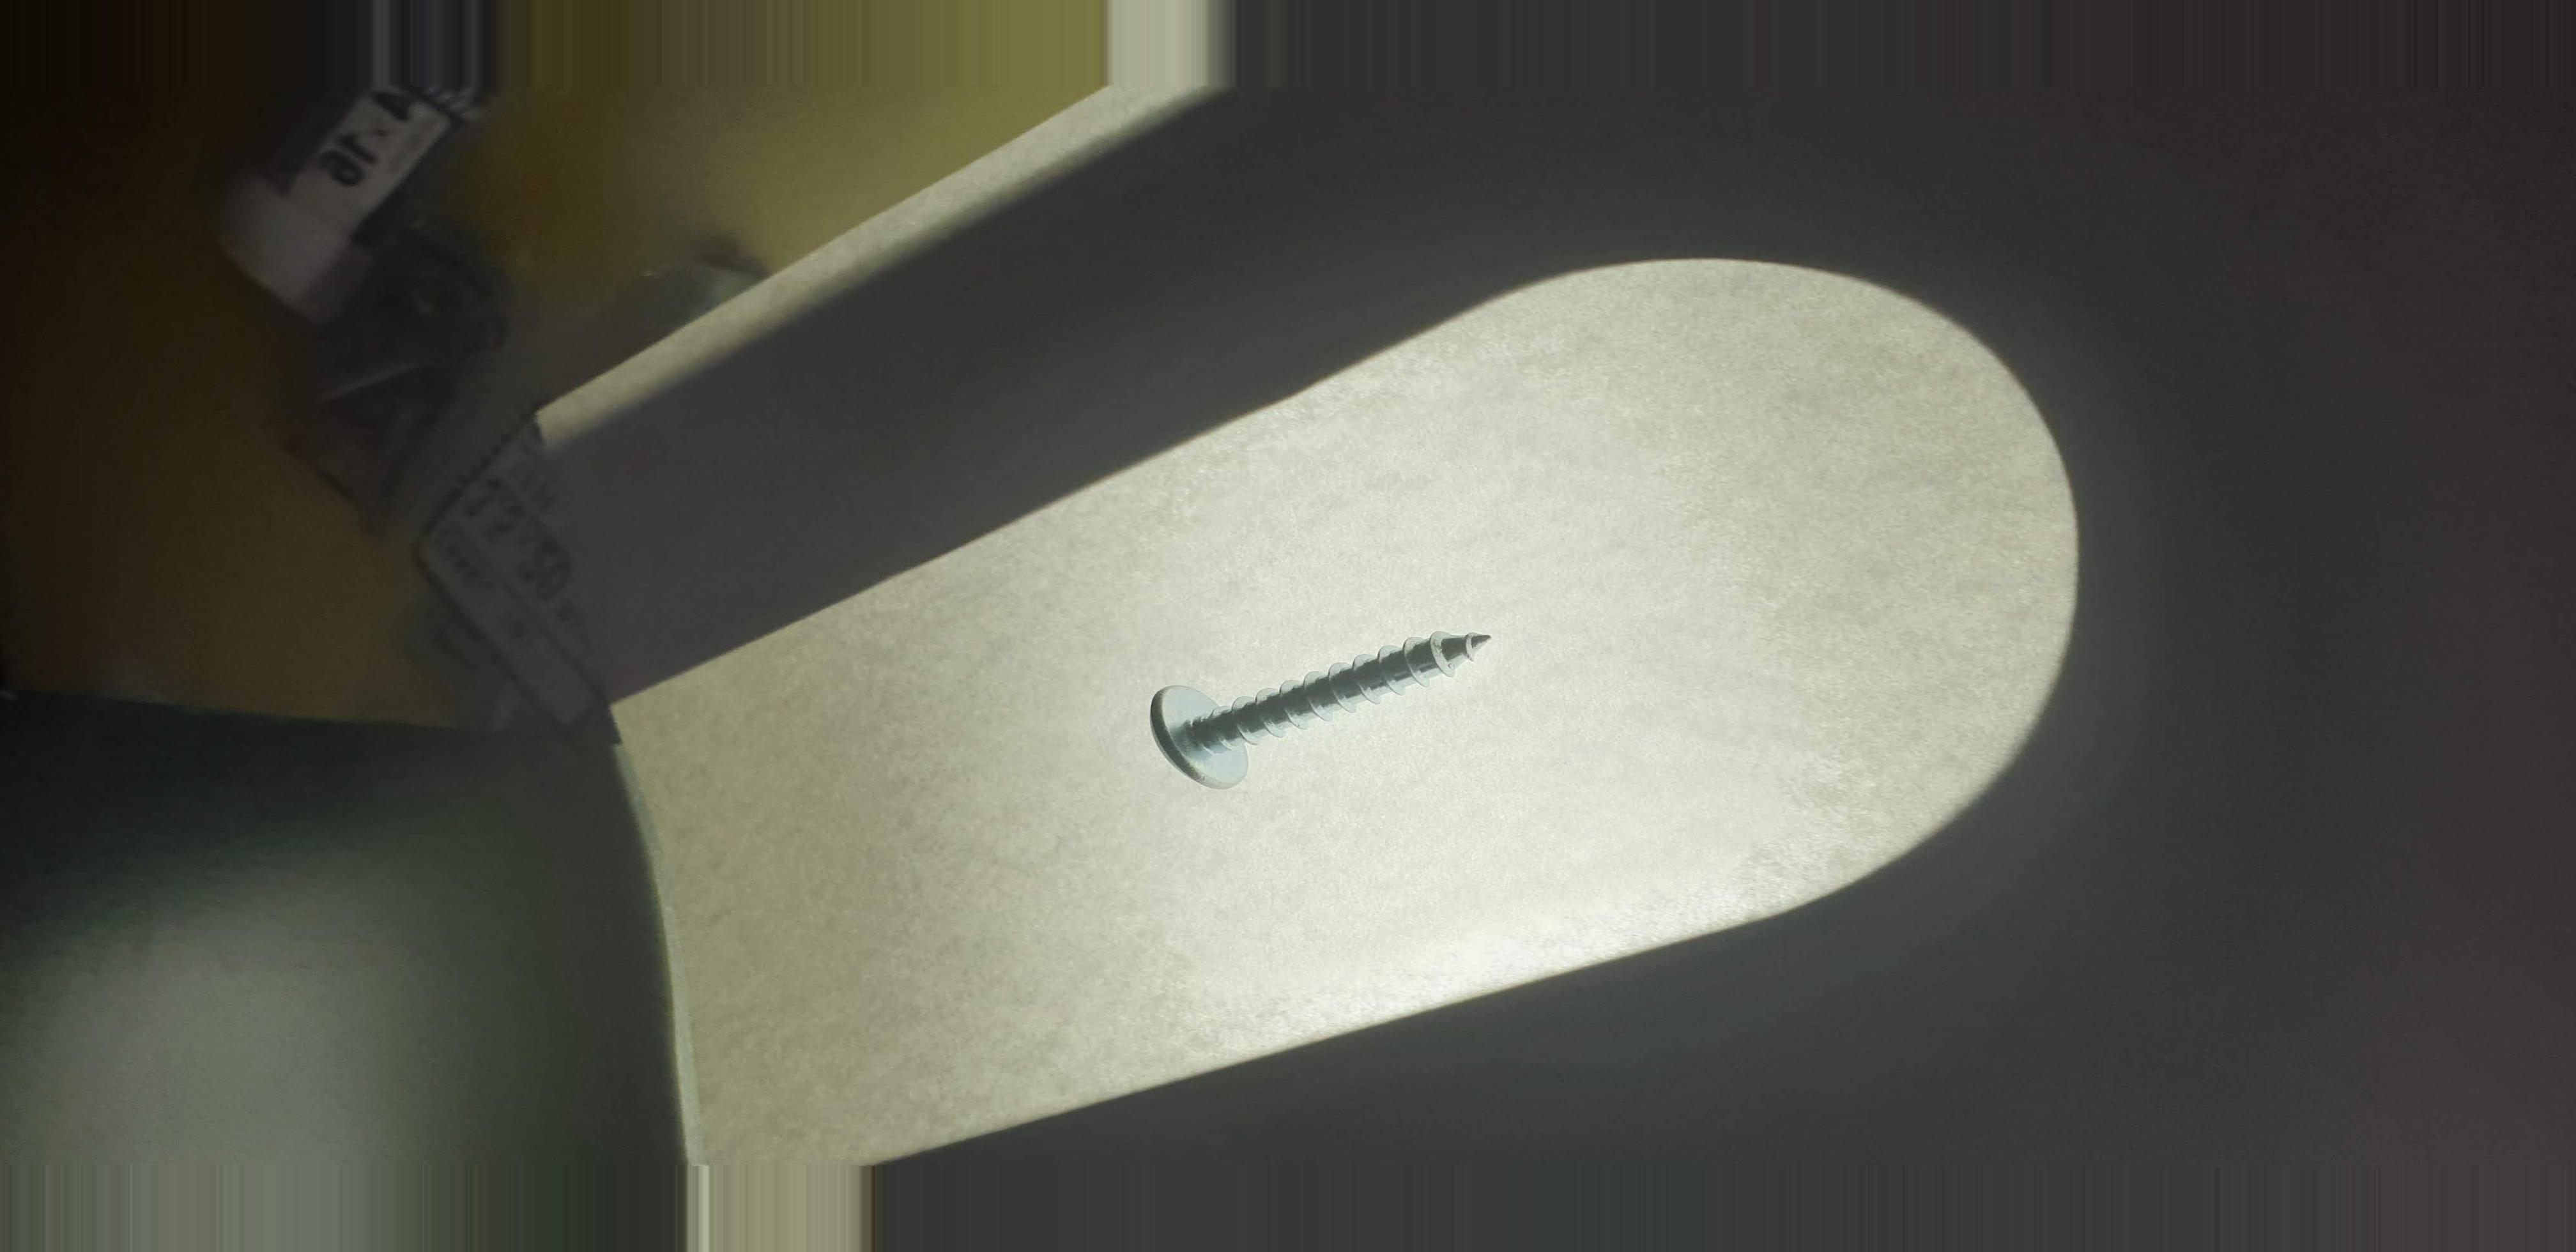S002: (1078, 590, 1562, 817)
